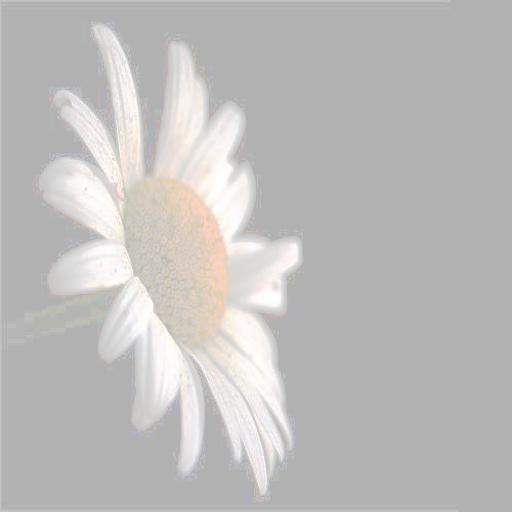daisy: (58, 48, 282, 471)
